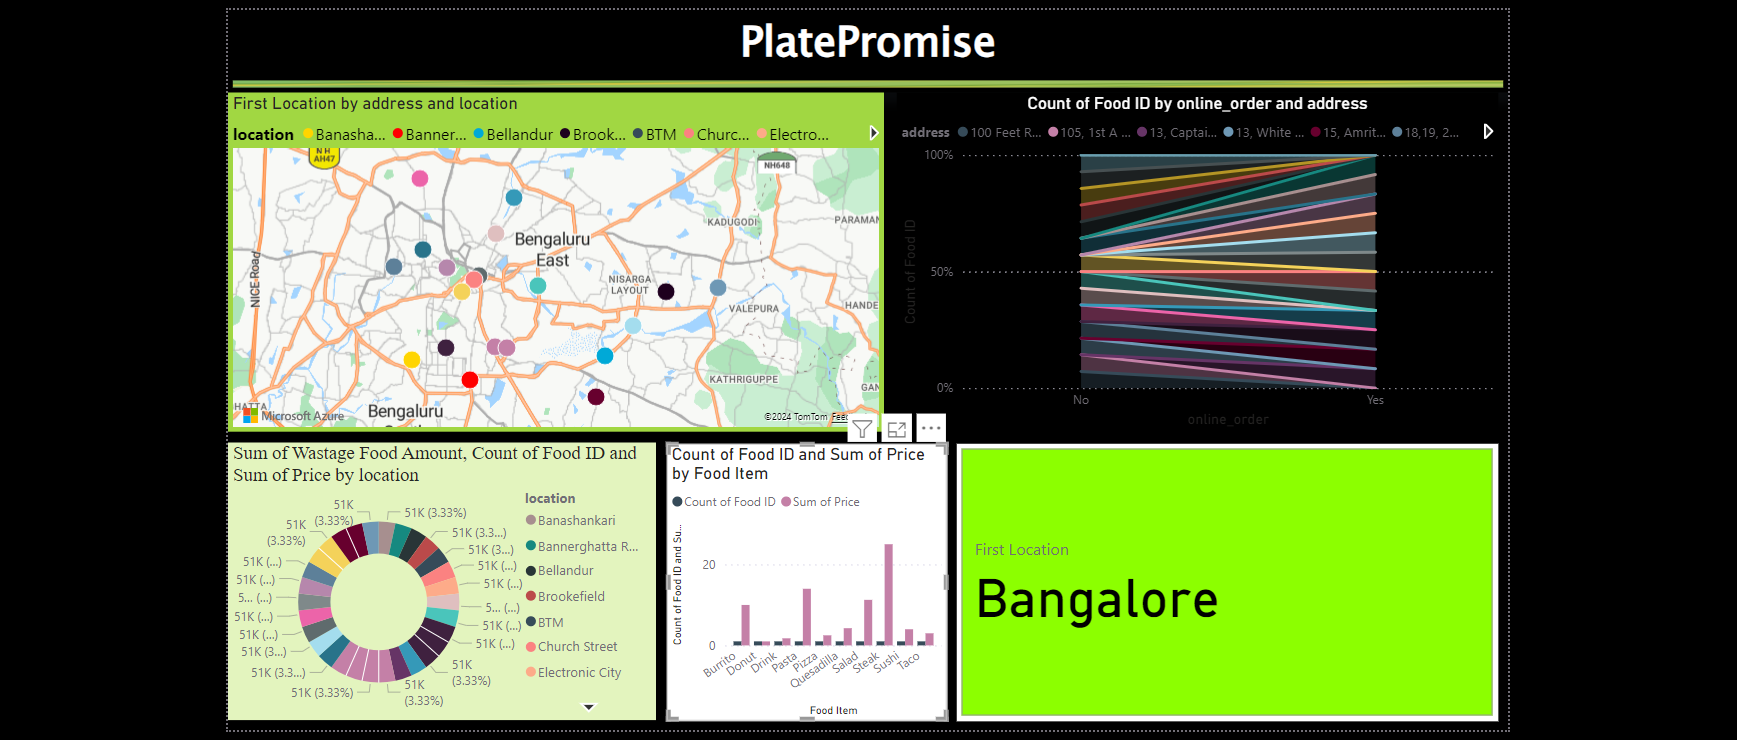

The page's visual inventory and layout, read from the dashboard file:
{"tool":"powerbi","page":{"name":"Page 1","canvas":[1280,720],"ordinal":0},"visuals":[{"type":"image","title":"PlatePromise","box":[0,0,1280.3,82.7],"z":0},{"type":"azureMap","fields":{"Series":["zomato.location"],"Category":["zomato.address"]},"box":[0,82.7,656.3,339.4],"z":1000},{"type":"donutChart","title":"Sum of Wastage Food Amount, Count of Food ID and Sum of Price by location","fields":{"Y":["Sum(food_wastage_data (2).Wastage Food Amount)"],"Category":["zomato.location","zomato.address","RestaurantFoods.Food Item"],"Series":["zomato.listed_in(city)"]},"box":[0,432.7,427.9,277.7],"z":2000},{"type":"clusteredColumnChart","fields":{"Y":["CountNonNull(RestaurantFoods.Food ID)","Sum(RestaurantFoods.Price)"],"Category":["RestaurantFoods.Food Item"]},"box":[438.9,433.3,280.5,277.7],"z":3000},{"type":"hundredPercentStackedAreaChart","fields":{"Category":["zomato.online_order"],"Series":["zomato.address"],"Y":["CountNonNull(RestaurantFoods.Food ID)"]},"box":[668.9,82.7,601.6,339.4],"z":4000},{"type":"cardVisual","fields":{"Data":["Min(ngo data india.Location)"]},"box":[729.2,433.3,541.3,277.7],"z":5000}]}

Visuals, with their boxes in screenshot pixels (x1, y1, x2, y2):
"PlatePromise" image: (left=217, top=0, right=1518, bottom=80)
azureMap - zomato.location x zomato.address: (left=217, top=80, right=884, bottom=424)
"Sum of Wastage Food Amount, Count of Food ID and Sum of Price by location" donutChart: (left=217, top=435, right=652, bottom=717)
clusteredColumnChart - CountNonNull(RestaurantFoods.Food ID) x Sum(RestaurantFoods.Price): (left=663, top=436, right=948, bottom=718)
hundredPercentStackedAreaChart - zomato.online_order x zomato.address: (left=897, top=80, right=1508, bottom=424)
cardVisual - Min(ngo data india.Location): (left=958, top=436, right=1508, bottom=718)
